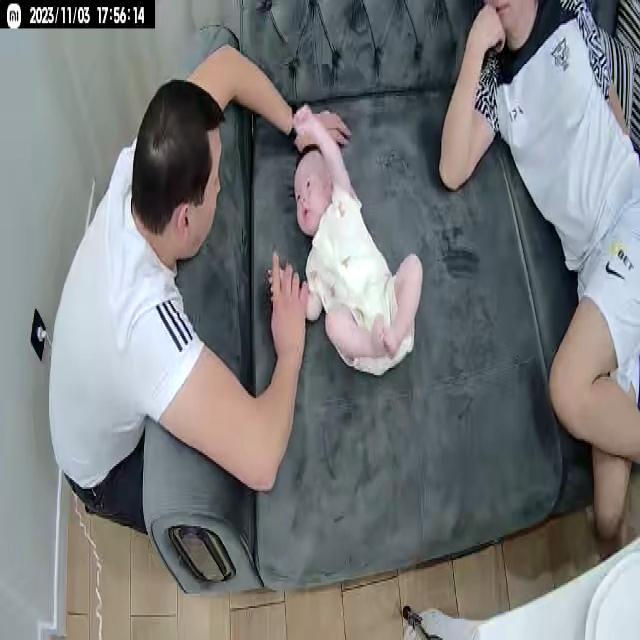baby: (267, 104, 423, 378)
